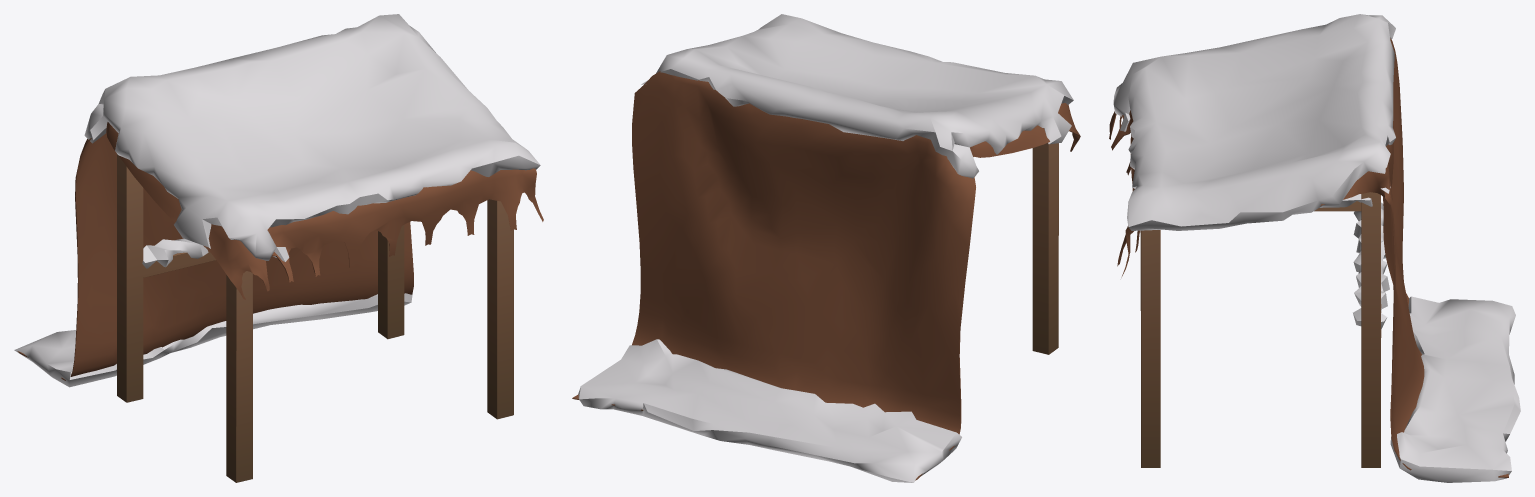
Rendered from TentSnowy_4.fbx.
3 views of the same model, side by side, from view 1: azimuth 30°, elevation 25°; view 2: azimuth 150°, elevation 25°; view 3: azimuth 270°, elevation 25° (orthographic). The views are drawn at different scales.
Parts seen in each view (by area): view 1: TentSnowy_4; view 2: TentSnowy_4; view 3: TentSnowy_4.
Part boxes in pixels (left/top/right/bottom): TentSnowy_4: left=14, top=14, right=543, bottom=482; TentSnowy_4: left=572, top=14, right=1080, bottom=482; TentSnowy_4: left=1109, top=14, right=1520, bottom=482.
Bounding box in the file's own units: 293 × 254 × 296.
